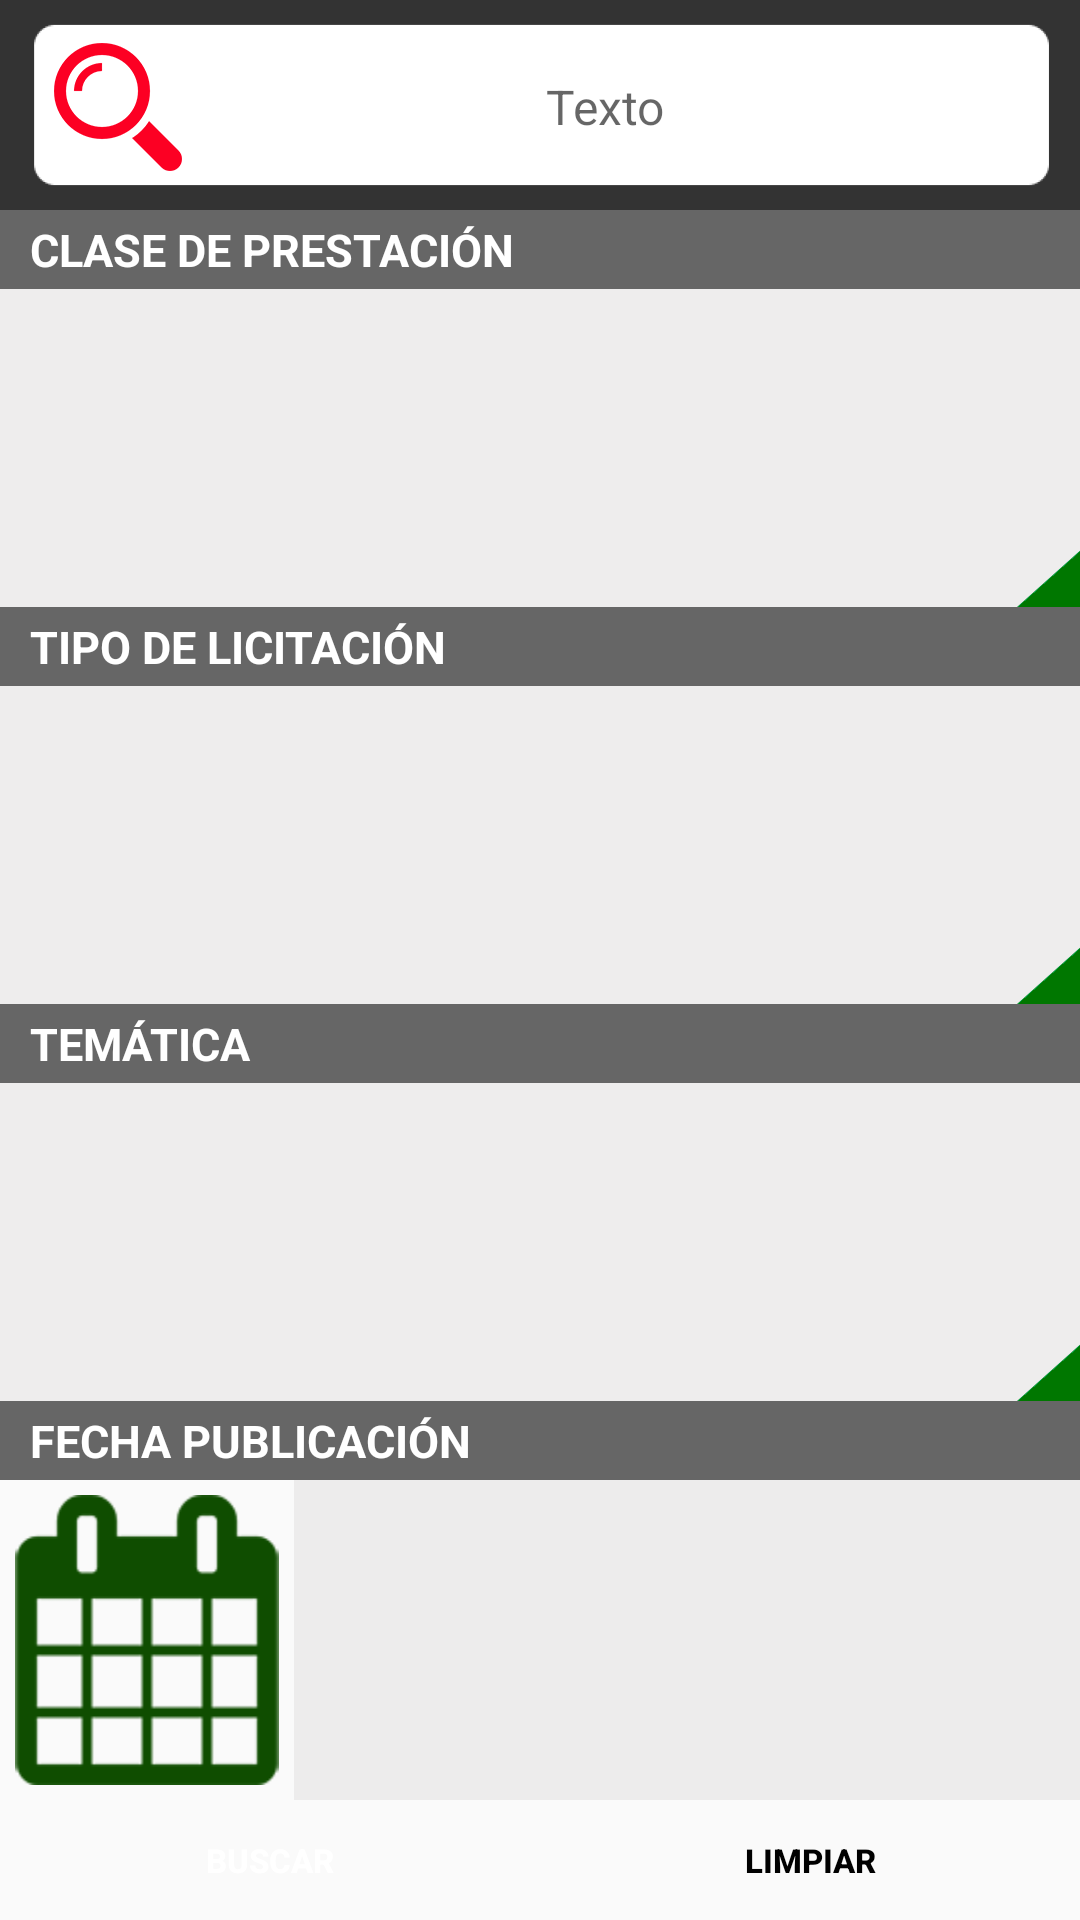

Icon bounding boxes for this 1080*1920 phone screenshot, format {"x1": x1, "y1": y1, "x2": x2, "y2": y2}:
calendar: {"x1": 15, "y1": 1495, "x2": 279, "y2": 1785}
